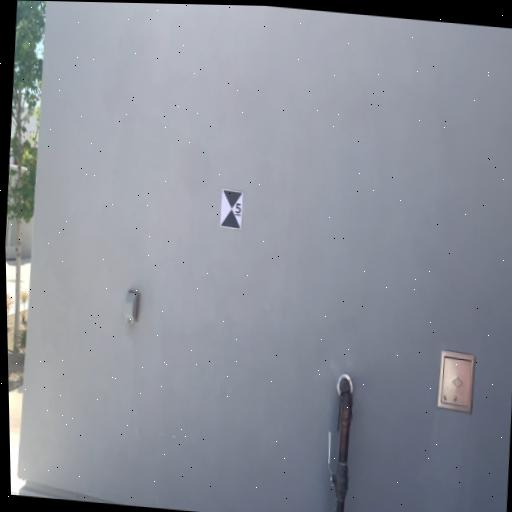target5: (220, 189, 243, 230)
